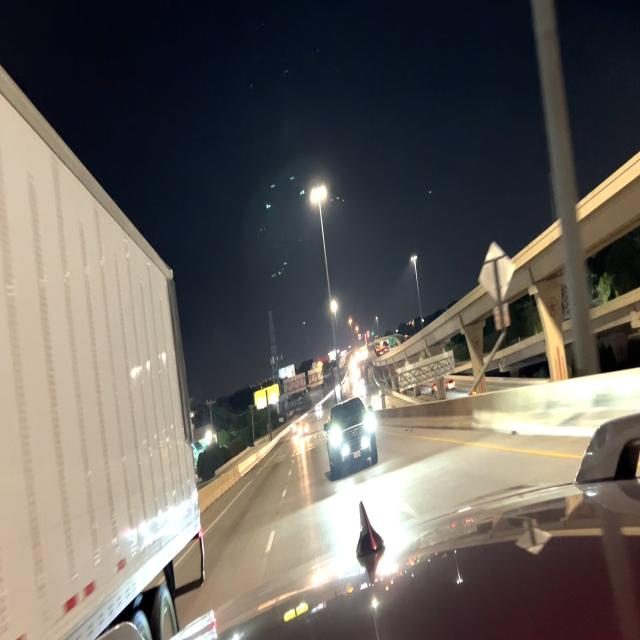back-of-sign: (479, 239, 515, 330), (395, 352, 460, 392), (282, 363, 323, 397)
